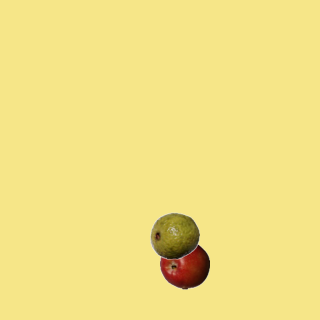Apple Braeburn: (159, 239, 209, 289)
Guava: (149, 210, 199, 260)
